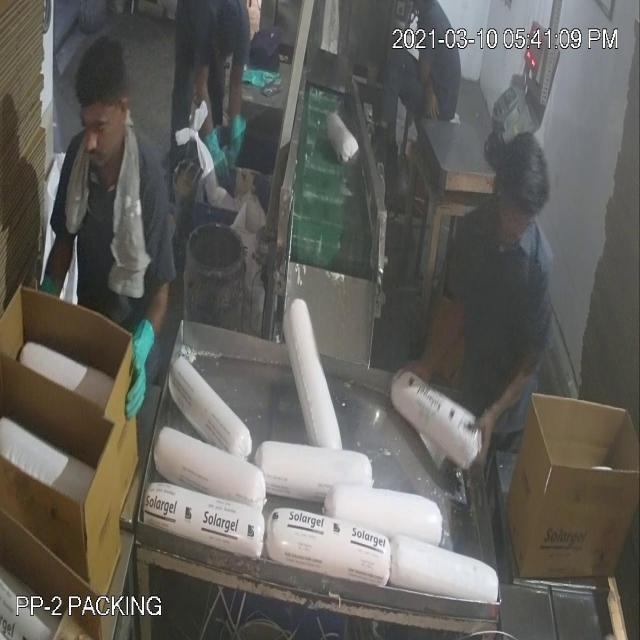Gloves: (70, 124, 506, 416)
